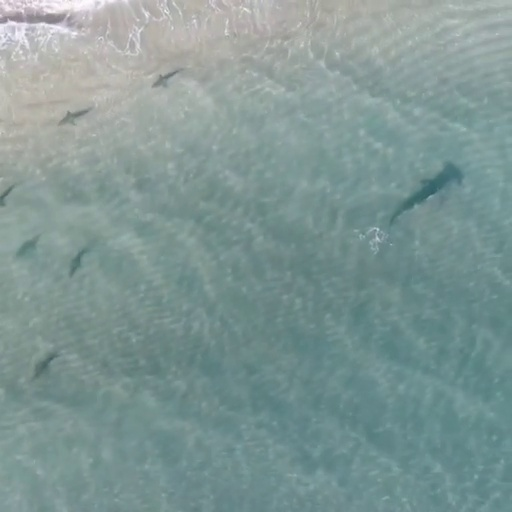shark: (387, 160, 465, 228)
